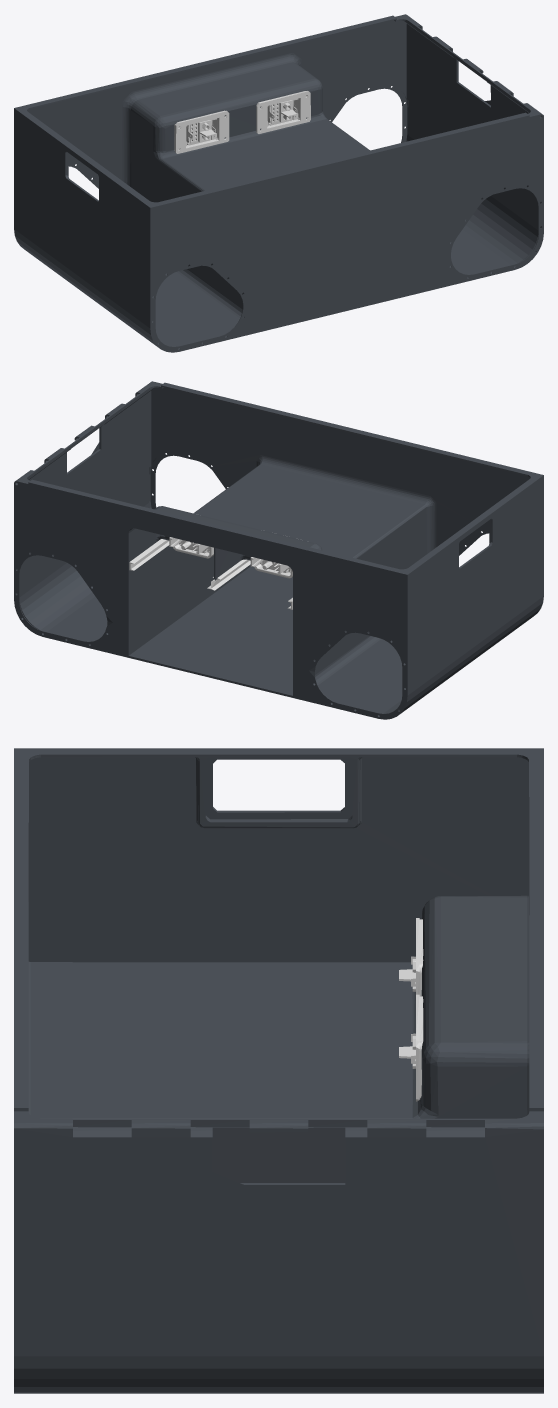
Rendered from chassis.dae.
3 renders of one model, top to bottom at view 1: azimuth 30°, elevation 25°; view 2: azimuth 150°, elevation 25°; view 3: azimuth 270°, elevation 25°, orthographic. The views are drawn at different scales.
Parts seen in each view (by area): view 1: node0, Bat Con; view 2: node0, Bat Con; view 3: node0, Bat Con.
Part boxes in pixels (x1,y1,x2,y2): node0: (14,14,543,352); Bat Con: (174,91,310,153); node0: (14,381,543,719); Bat Con: (129,510,292,609); node0: (14,748,543,1393); Bat Con: (399,918,423,1101).
Bounding box in the file's own units: 0.6 × 0.36 × 0.22.
Materials: 2 (1 with a texture image).
